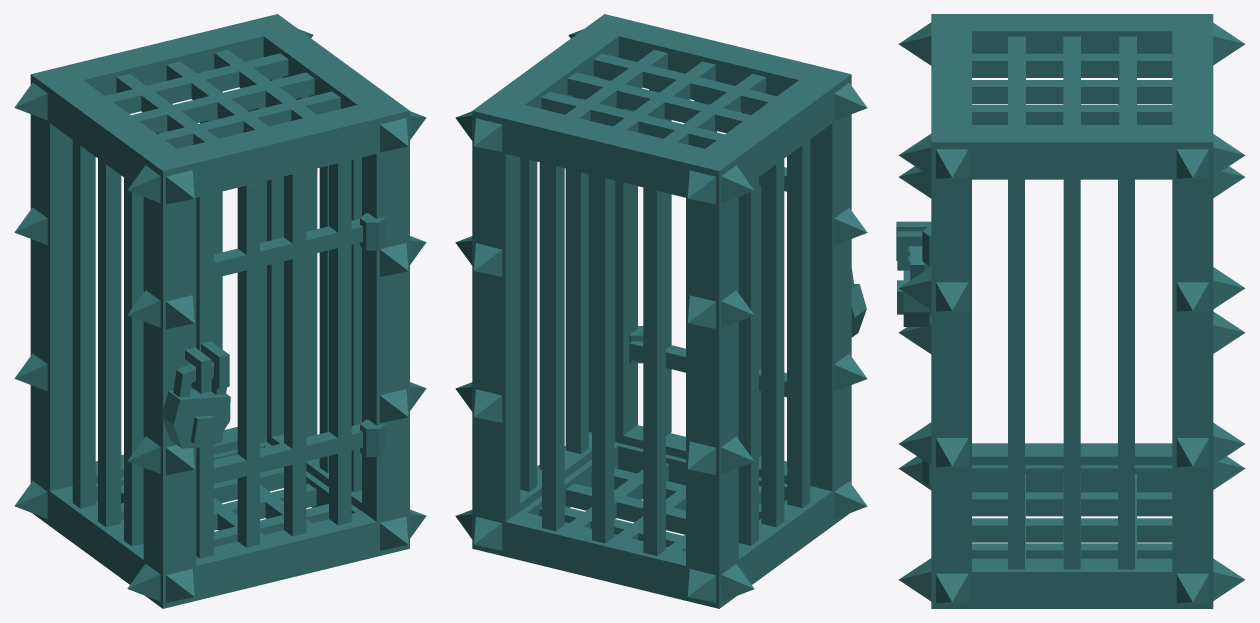
File: torture12.fbx
The picture shows the model from 3 angles, left to right: view 1: azimuth 30°, elevation 25°; view 2: azimuth 150°, elevation 25°; view 3: azimuth 270°, elevation 25°; orthographic projection. The views are drawn at different scales.
Parts seen in each view (by area): view 1: torture12, door6; view 2: torture12, door6; view 3: torture12, door6.
Boxes of the visible parts, x1=… form: torture12: x1=14, y1=14, x2=426, y2=608; door6: x1=196, y1=160, x2=385, y2=558; torture12: x1=455, y1=14, x2=867, y2=608; door6: x1=629, y1=89, x2=787, y2=468; torture12: x1=896, y1=14, x2=1245, y2=608; door6: x1=897, y1=226, x2=931, y2=485.
Bounding box in the file's own units: 118 × 164 × 111.
